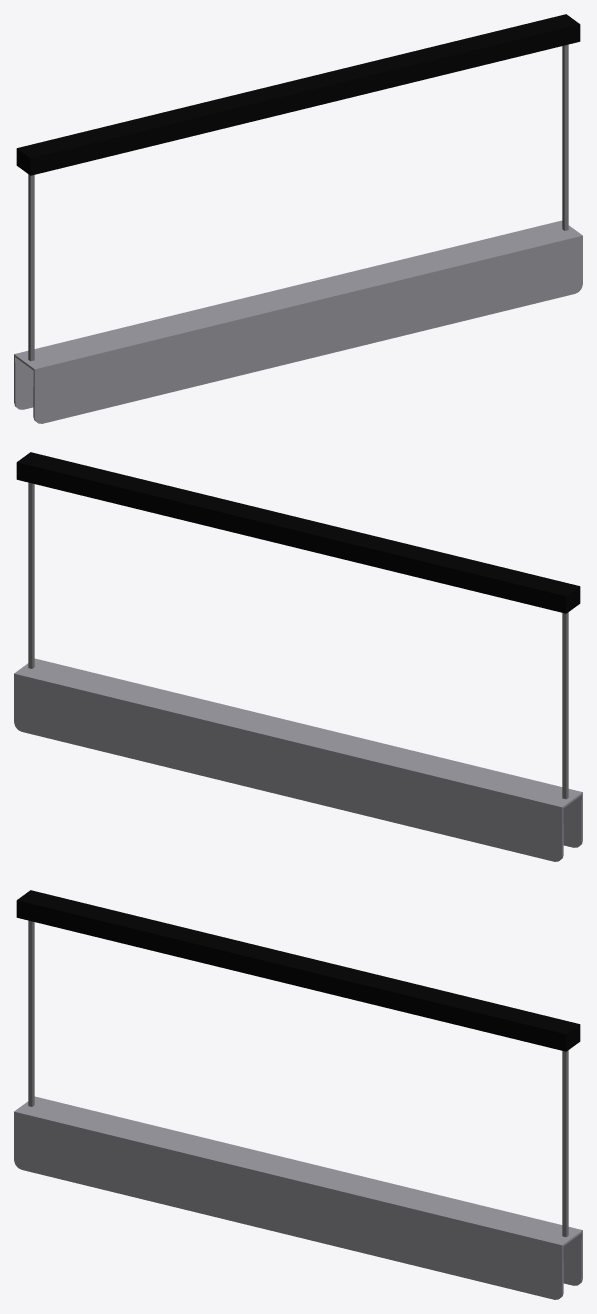
The model's file is Light3.fbx.
3 views of the same model, one above another, from view 1: azimuth 30°, elevation 25°; view 2: azimuth 150°, elevation 25°; view 3: azimuth 330°, elevation 25° (orthographic).
Parts seen in each view (by area): view 1: Light 3, Bar, Left, Right; view 2: Light 3, Bar, Left, Right; view 3: Light 3, Bar, Right, Left.
Part boxes in pixels (bbox=[...]): Light 3: bbox=[14, 220, 582, 423]; Bar: bbox=[16, 14, 580, 175]; Left: bbox=[28, 174, 34, 361]; Right: bbox=[562, 44, 568, 230]; Light 3: bbox=[14, 658, 582, 861]; Bar: bbox=[16, 452, 580, 613]; Left: bbox=[562, 612, 568, 799]; Right: bbox=[28, 482, 34, 668]; Light 3: bbox=[14, 1096, 582, 1299]; Bar: bbox=[16, 890, 580, 1051]; Right: bbox=[562, 1050, 568, 1237]; Left: bbox=[28, 920, 34, 1106].
Bounding box in the file's own units: 201 × 92.39 × 13.11.
Materials: 4 (1 with a texture image).
